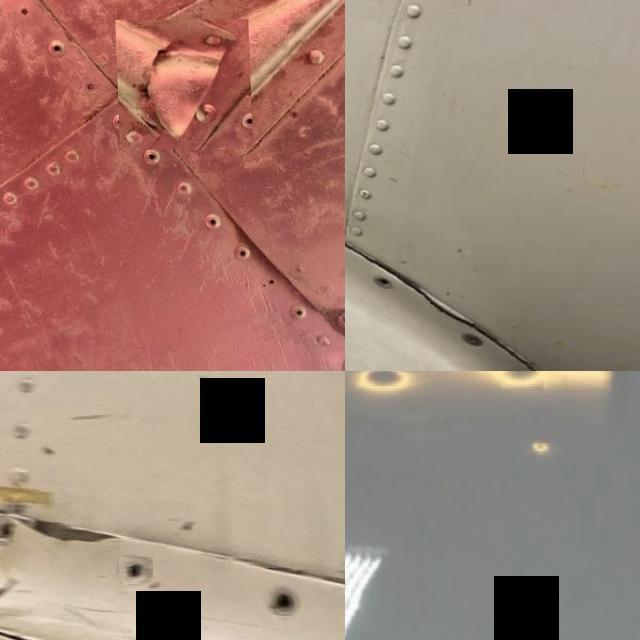Crack: (113, 20, 250, 151), (386, 272, 486, 344), (519, 350, 615, 371)
Dent: (350, 371, 417, 403), (501, 371, 542, 392)
Missing_Fastener: (257, 587, 305, 615), (116, 557, 152, 584), (370, 276, 388, 290)
